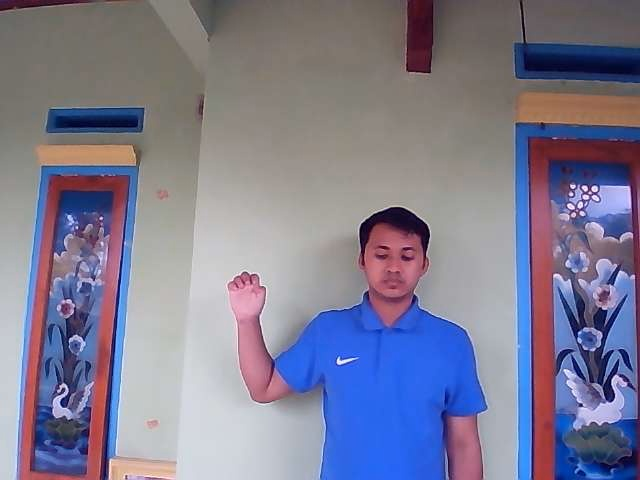E: (226, 270, 268, 319)
